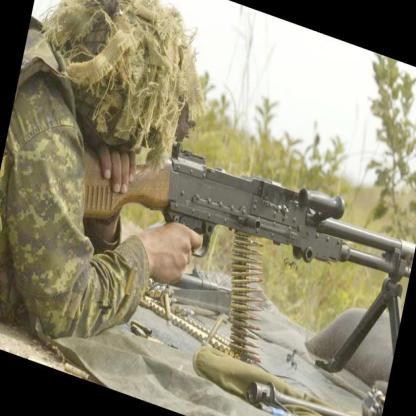rifle: (82, 107, 416, 330)
